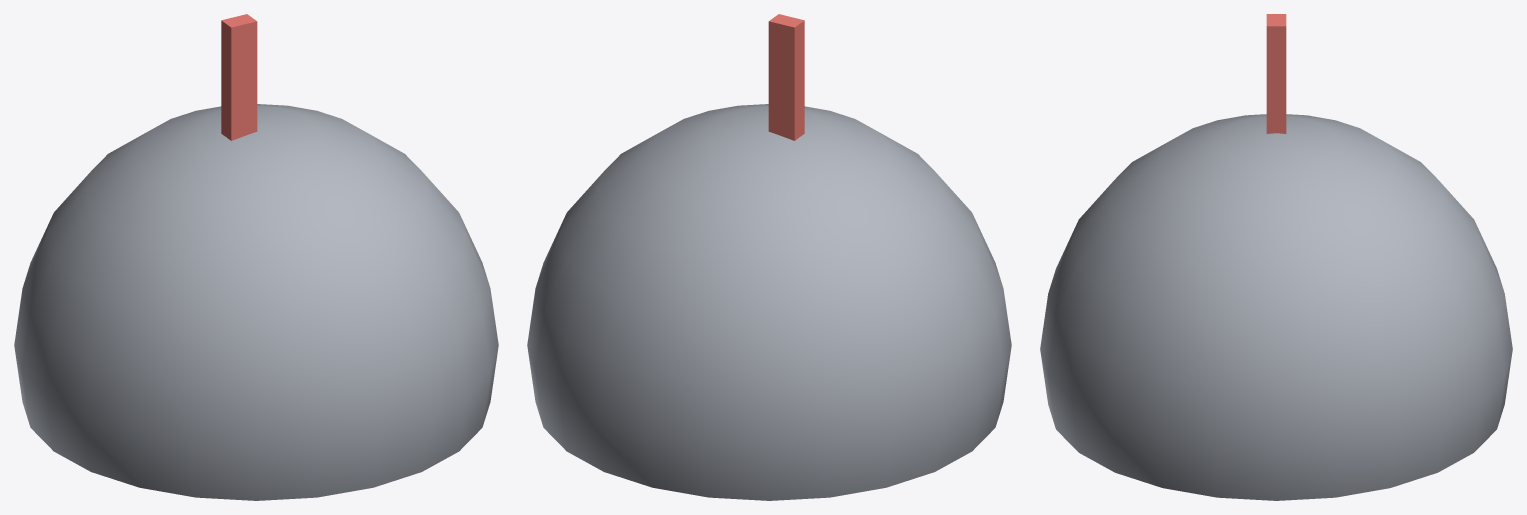
The model's file is hat_helmet.glb.
The picture shows the model from 3 angles, left to right: view 1: azimuth 30°, elevation 25°; view 2: azimuth 150°, elevation 25°; view 3: azimuth 270°, elevation 25°; orthographic projection. The views are drawn at different scales.
Parts seen in each view (by area): view 1: hat_helmet; view 2: hat_helmet; view 3: hat_helmet.
Boxes of the visible parts, x1=… form: hat_helmet: x1=14, y1=14, x2=498, y2=500; hat_helmet: x1=527, y1=14, x2=1011, y2=500; hat_helmet: x1=1040, y1=14, x2=1512, y2=500.
Bounding box in the file's own units: 0.486 × 0.4266 × 0.486.
